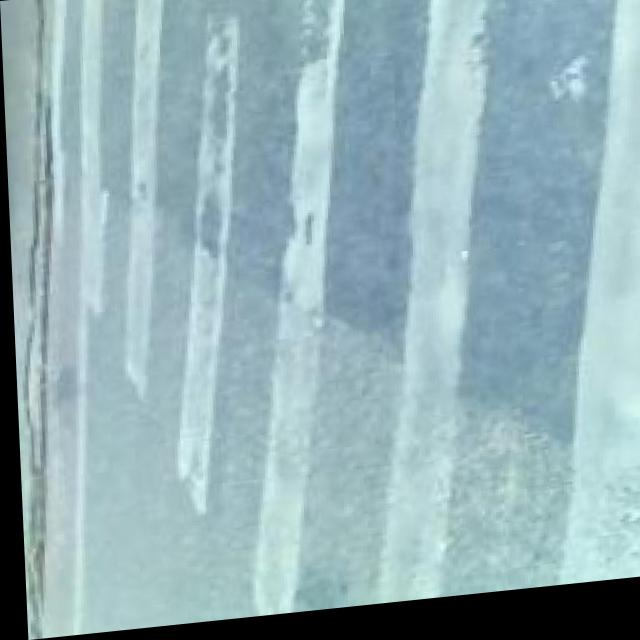zebra: (55, 0, 640, 322)
